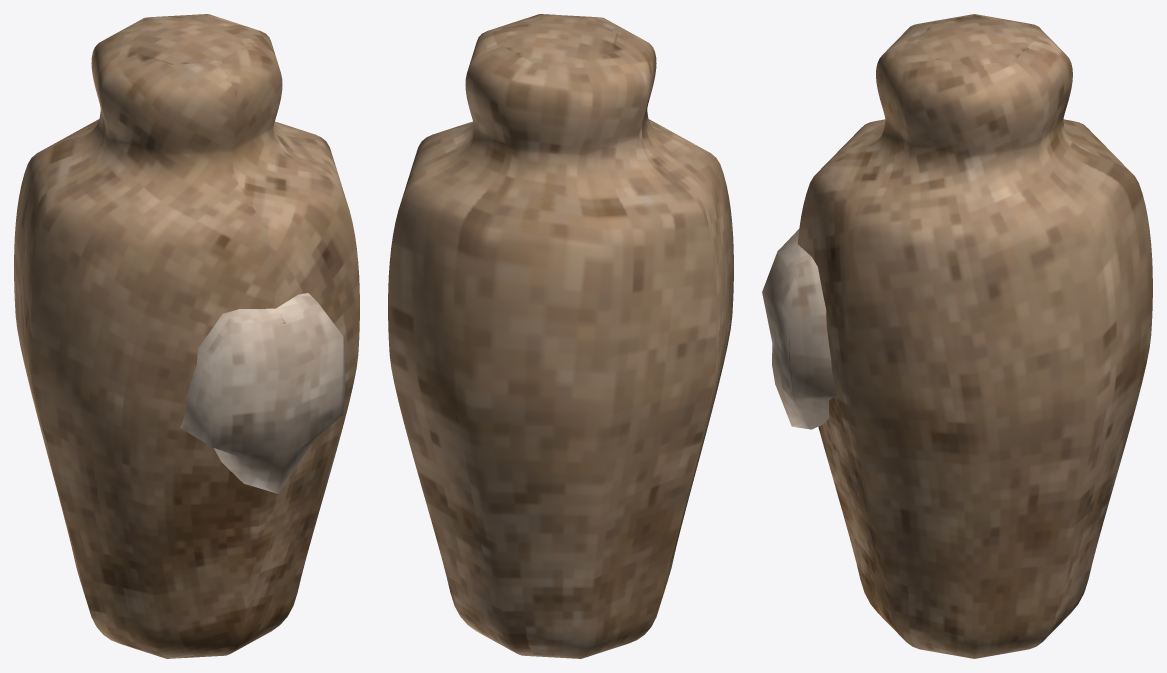
File: Mid Urn.fbx
3 views of the same model, side by side, from view 1: azimuth 30°, elevation 25°; view 2: azimuth 150°, elevation 25°; view 3: azimuth 270°, elevation 25° (orthographic).
Visible parts, largest first — view 1: Skull.002; view 2: Skull.002; view 3: Skull.002.
Boxes of the visible parts, x1,y1,x2,y2 form: Skull.002: [14, 14, 359, 658]; Skull.002: [388, 14, 733, 658]; Skull.002: [762, 14, 1152, 658].
Bounding box in the file's own units: 242 × 451 × 265.
